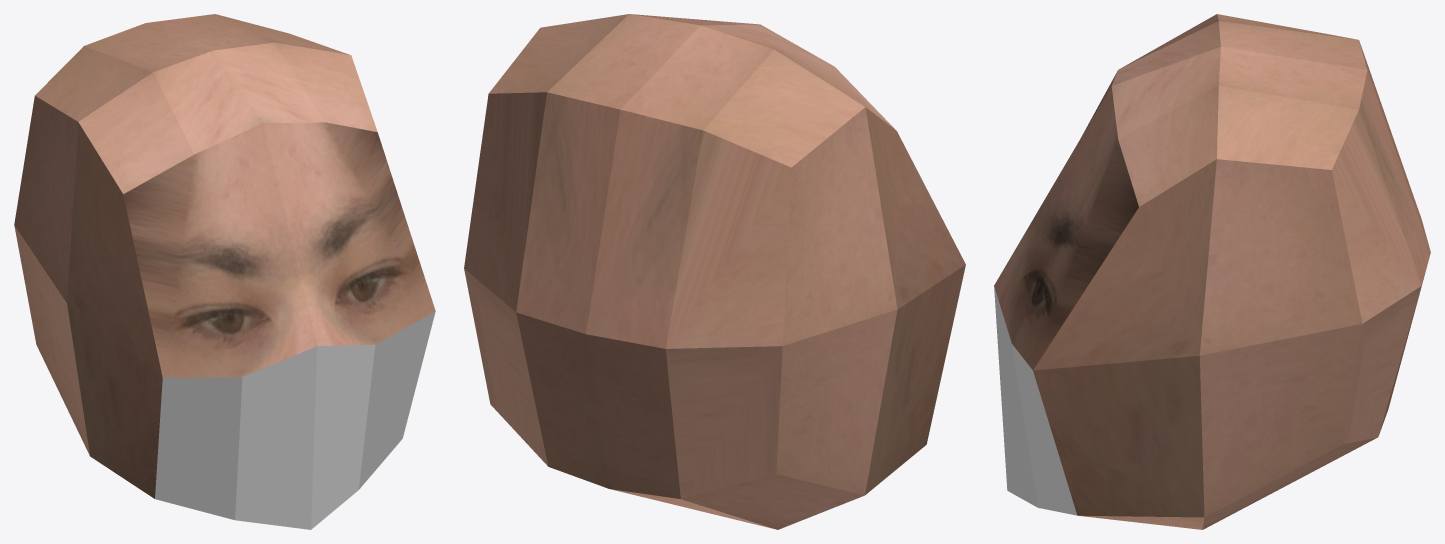
File: jonah model OPEN MOUTH2.fbx
3 views of the same model, side by side, from view 1: azimuth 30°, elevation 25°; view 2: azimuth 150°, elevation 25°; view 3: azimuth 270°, elevation 25° (orthographic). The views are drawn at different scales.
Parts seen in each view (by area): view 1: Cube.001; view 2: Cube.001; view 3: Cube.001.
Part boxes in pixels (box(x1,y1,x2,y2)): Cube.001: box(14, 14, 435, 529); Cube.001: box(464, 14, 965, 529); Cube.001: box(994, 14, 1430, 529).
Size of the model in its own units: 89.23 by 114 by 99.57.
